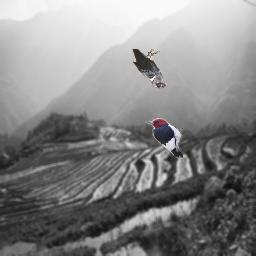Crow: (132, 49, 167, 89)
Woodpecker: (145, 118, 183, 158)
